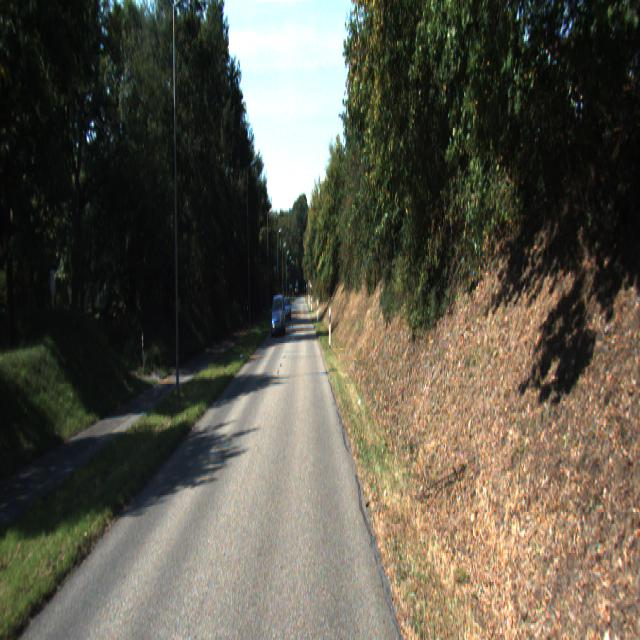Car: (270, 294, 286, 339), (283, 296, 292, 322)
